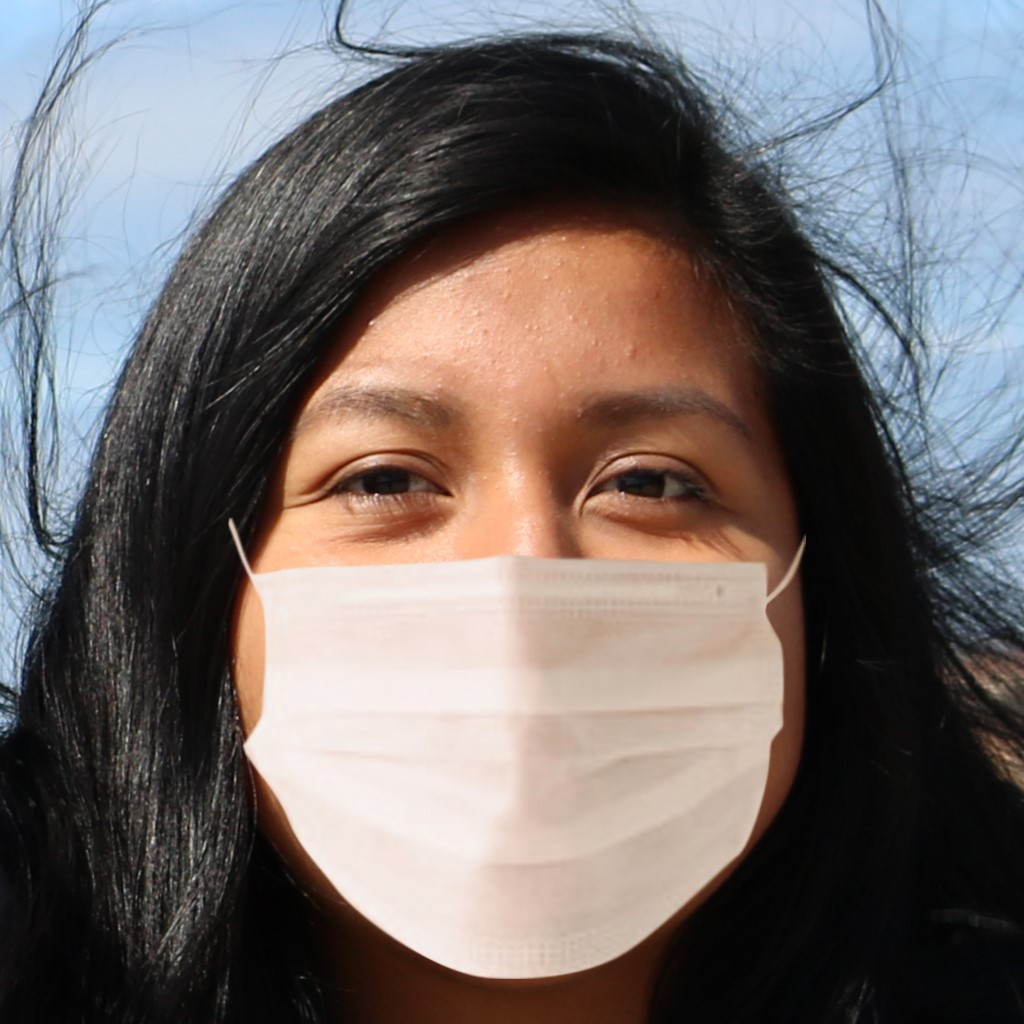con_mascara: (226, 142, 828, 988)
